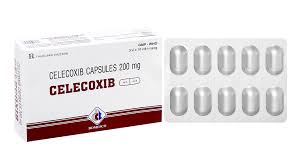Celecoxip: (49, 78, 113, 94)
